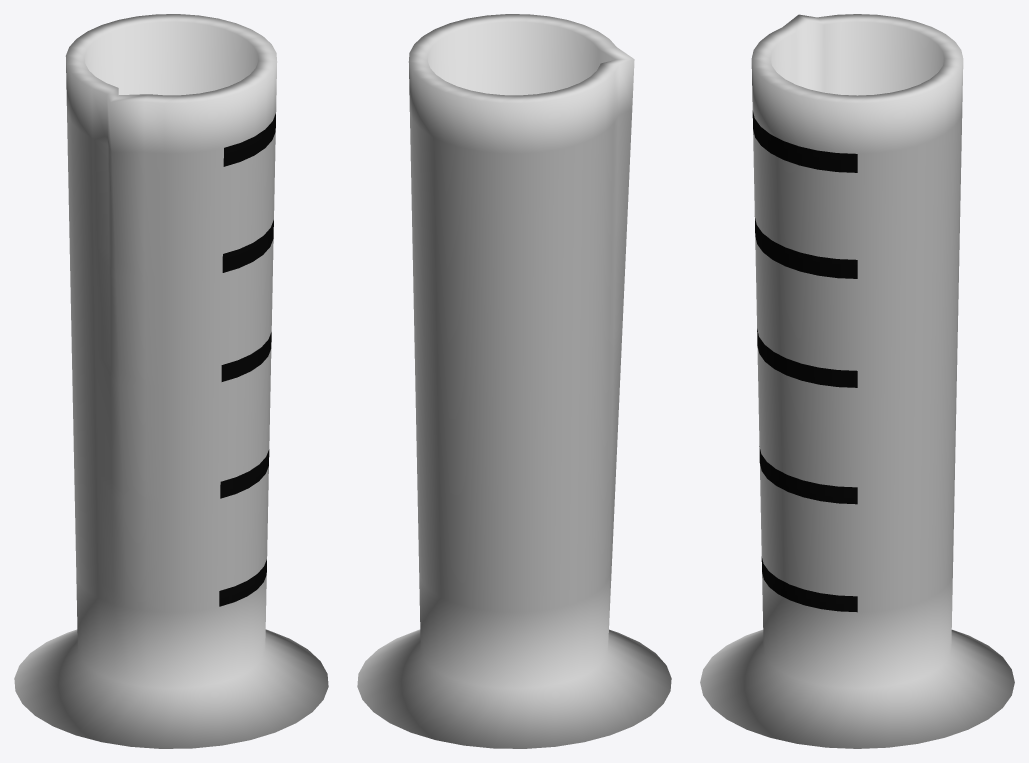
Rendered from probeta.fbx.
The picture shows the model from 3 angles, left to right: view 1: azimuth 30°, elevation 25°; view 2: azimuth 150°, elevation 25°; view 3: azimuth 270°, elevation 25°; orthographic projection.
Parts seen in each view (by area): view 1: Cube; view 2: Cube; view 3: Cube.
Boxes of the visible parts, box(x1,y1,x2,y2) form: Cube: box(14, 14, 328, 748); Cube: box(357, 14, 671, 748); Cube: box(700, 14, 1014, 748).
Bounding box in the file's own units: 335 × 733 × 335.
